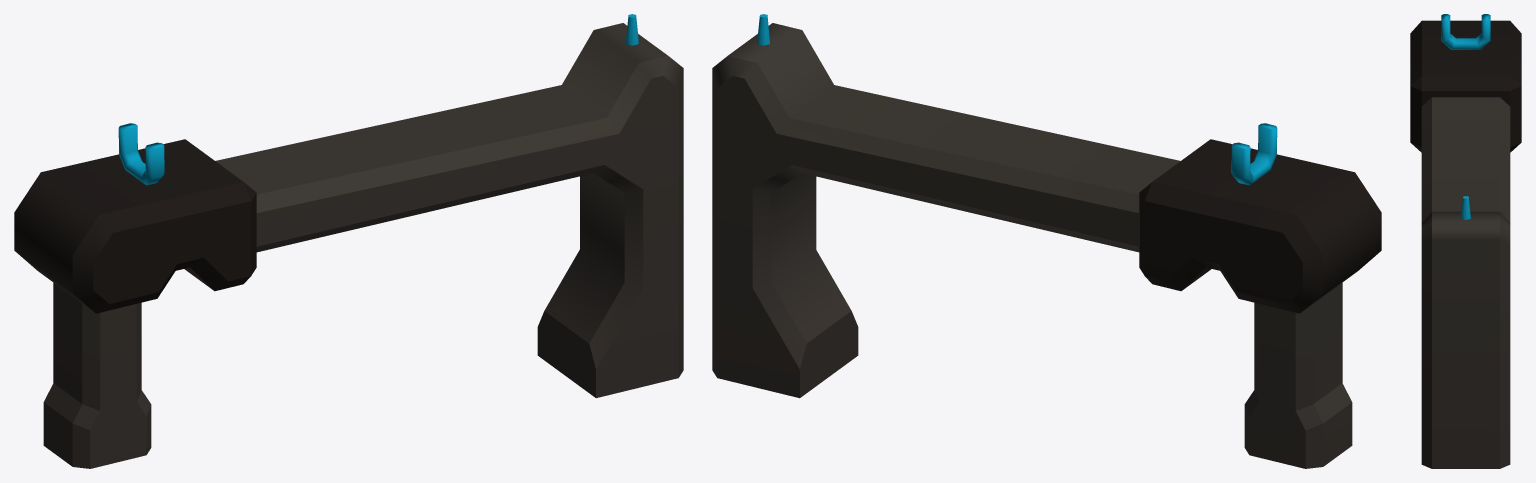
File: AR6_Sight.fbx
3 views of the same model, side by side, from view 1: azimuth 30°, elevation 25°; view 2: azimuth 150°, elevation 25°; view 3: azimuth 270°, elevation 25° (orthographic). The views are drawn at different scales.
Parts seen in each view (by area): view 1: AR6_Sight; view 2: AR6_Sight; view 3: AR6_Sight.
Boxes of the visible parts, x1,y1,x2,y2 form: AR6_Sight: (14, 14, 683, 468); AR6_Sight: (712, 14, 1381, 468); AR6_Sight: (1410, 14, 1521, 468).
Bounding box in the file's own units: 19.66 × 10.49 × 4.05.
